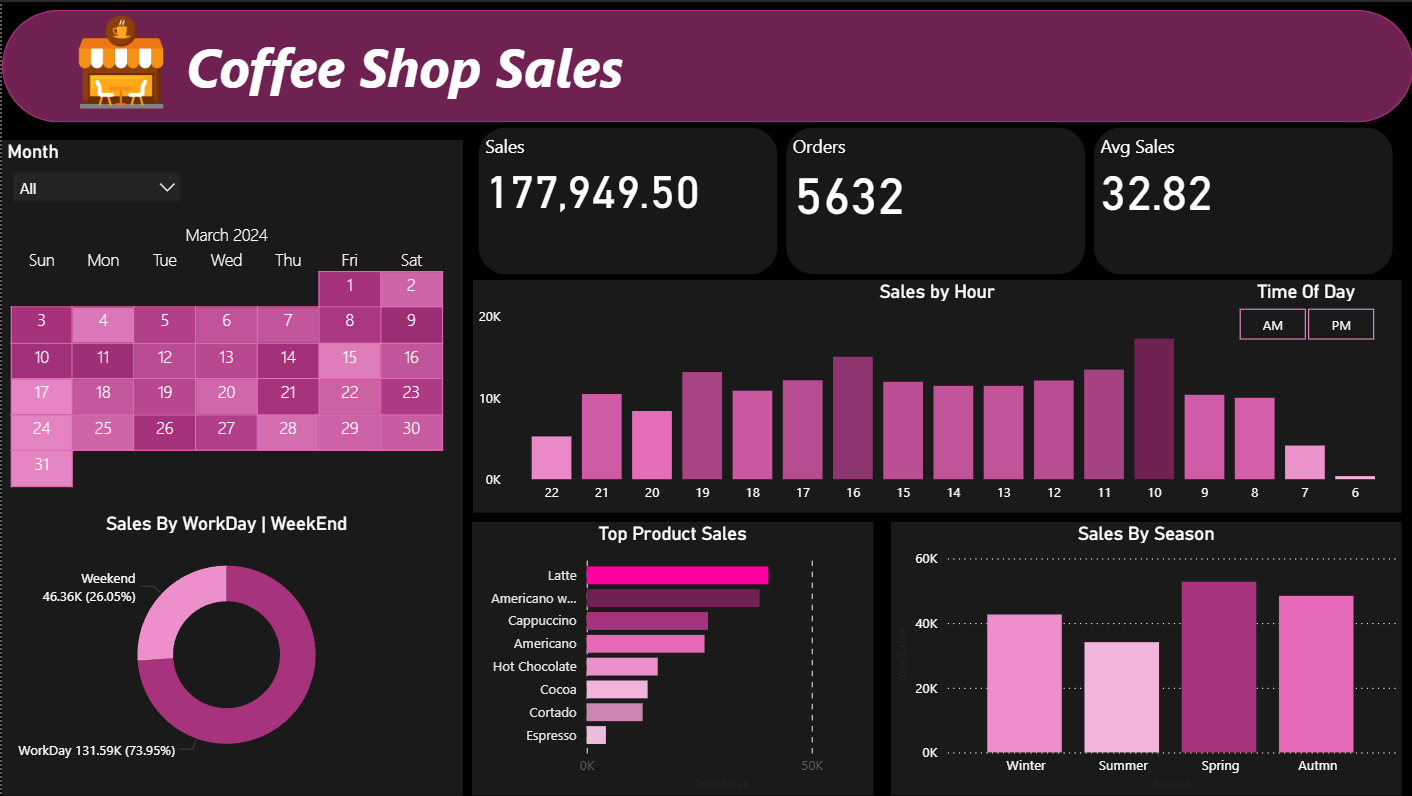

What the dashboard file says about the page in this screenshot:
{"tool":"powerbi","page":{"name":"Page 1","canvas":[1280,720],"ordinal":0},"visuals":[{"type":"shape","box":[0,7.1,1280,101.8],"z":0},{"type":"textbox","box":[162.3,20.2,433.4,104.8],"z":1000},{"type":"shape","box":[0,125,418.3,594.6],"z":2000},{"type":"cardVisual","fields":{"Data":["FactSales.TotalSales","FactSales.TotalOrders","FactSales.%AvgSales"]},"box":[427.3,108.9,841.6,143.1],"z":3000},{"type":"slicer","title":"Month","fields":{"Values":["FactSales.MonthYear"]},"box":[0,125,172.3,61.5],"z":4000},{"type":"clusteredBarChart","title":"Top Product Sales","fields":{"Category":["DimProduct.ProductName"],"Y":["FactSales.TotalSales"]},"box":[426.3,471.7,363.8,247.9],"z":5000},{"type":"donutChart","title":"Sales By WorkDay | WeekEnd","fields":{"Y":["FactSales.TotalSales"],"Category":["DimDate.WeekendWorkingDay"]},"box":[0,462.6,407.2,239.9],"z":6000},{"type":"bciCalendarCC0FA2BFE4B54EE1ACCFE383B9B1DE61","fields":{"category":["DimDate.Date"],"measure":["FactSales.TotalSales"]},"box":[0,194.5,407.2,255],"z":7000},{"type":"clusteredColumnChart","title":"Sales By Season","fields":{"Category":["DimDate.Season"],"Y":["FactSales.TotalSales"]},"box":[806.3,471.7,462.6,247.9],"z":8000},{"type":"columnChart","title":"Sales by Hour","fields":{"Y":["FactSales.TotalSales"],"Category":["FactSales.Hour"]},"box":[427.3,252,841.6,210.6],"z":9000},{"type":"slicer","title":"Time Of Day","fields":{"Values":["FactSales.TimeOfDay"]},"box":[1096.6,252,172.3,61.5],"z":10000},{"type":"image","box":[53.4,0,108.9,108.9],"z":12000}]}

Visuals, with their boxes in screenshot pixels (x1, y1, x2, y2), scaled from the page's 1280x720 canvas onto the 1412x796 screenshot:
shape: (left=0, top=8, right=1411, bottom=120)
textbox: (left=179, top=22, right=657, bottom=138)
shape: (left=0, top=138, right=461, bottom=795)
cardVisual - FactSales.TotalSales x FactSales.TotalOrders: (left=471, top=120, right=1400, bottom=279)
"Month" slicer: (left=0, top=138, right=190, bottom=206)
"Top Product Sales" clusteredBarChart: (left=470, top=521, right=872, bottom=795)
"Sales By WorkDay | WeekEnd" donutChart: (left=0, top=511, right=449, bottom=777)
bciCalendarCC0FA2BFE4B54EE1ACCFE383B9B1DE61 - DimDate.Date x FactSales.TotalSales: (left=0, top=215, right=449, bottom=497)
"Sales By Season" clusteredColumnChart: (left=889, top=521, right=1400, bottom=795)
"Sales by Hour" columnChart: (left=471, top=279, right=1400, bottom=511)
"Time Of Day" slicer: (left=1210, top=279, right=1400, bottom=347)
image: (left=59, top=0, right=179, bottom=120)
